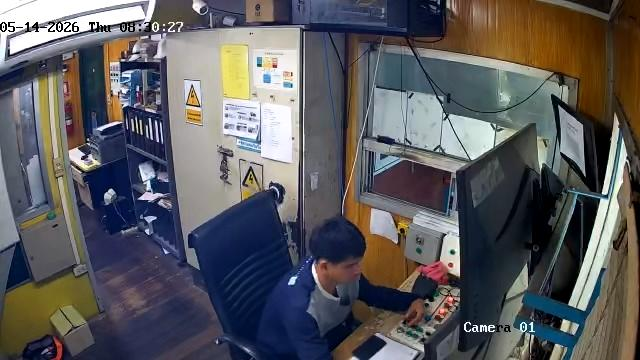Head: (310, 216, 364, 287)
People: (258, 215, 425, 358)
Phone: (351, 334, 388, 359)
